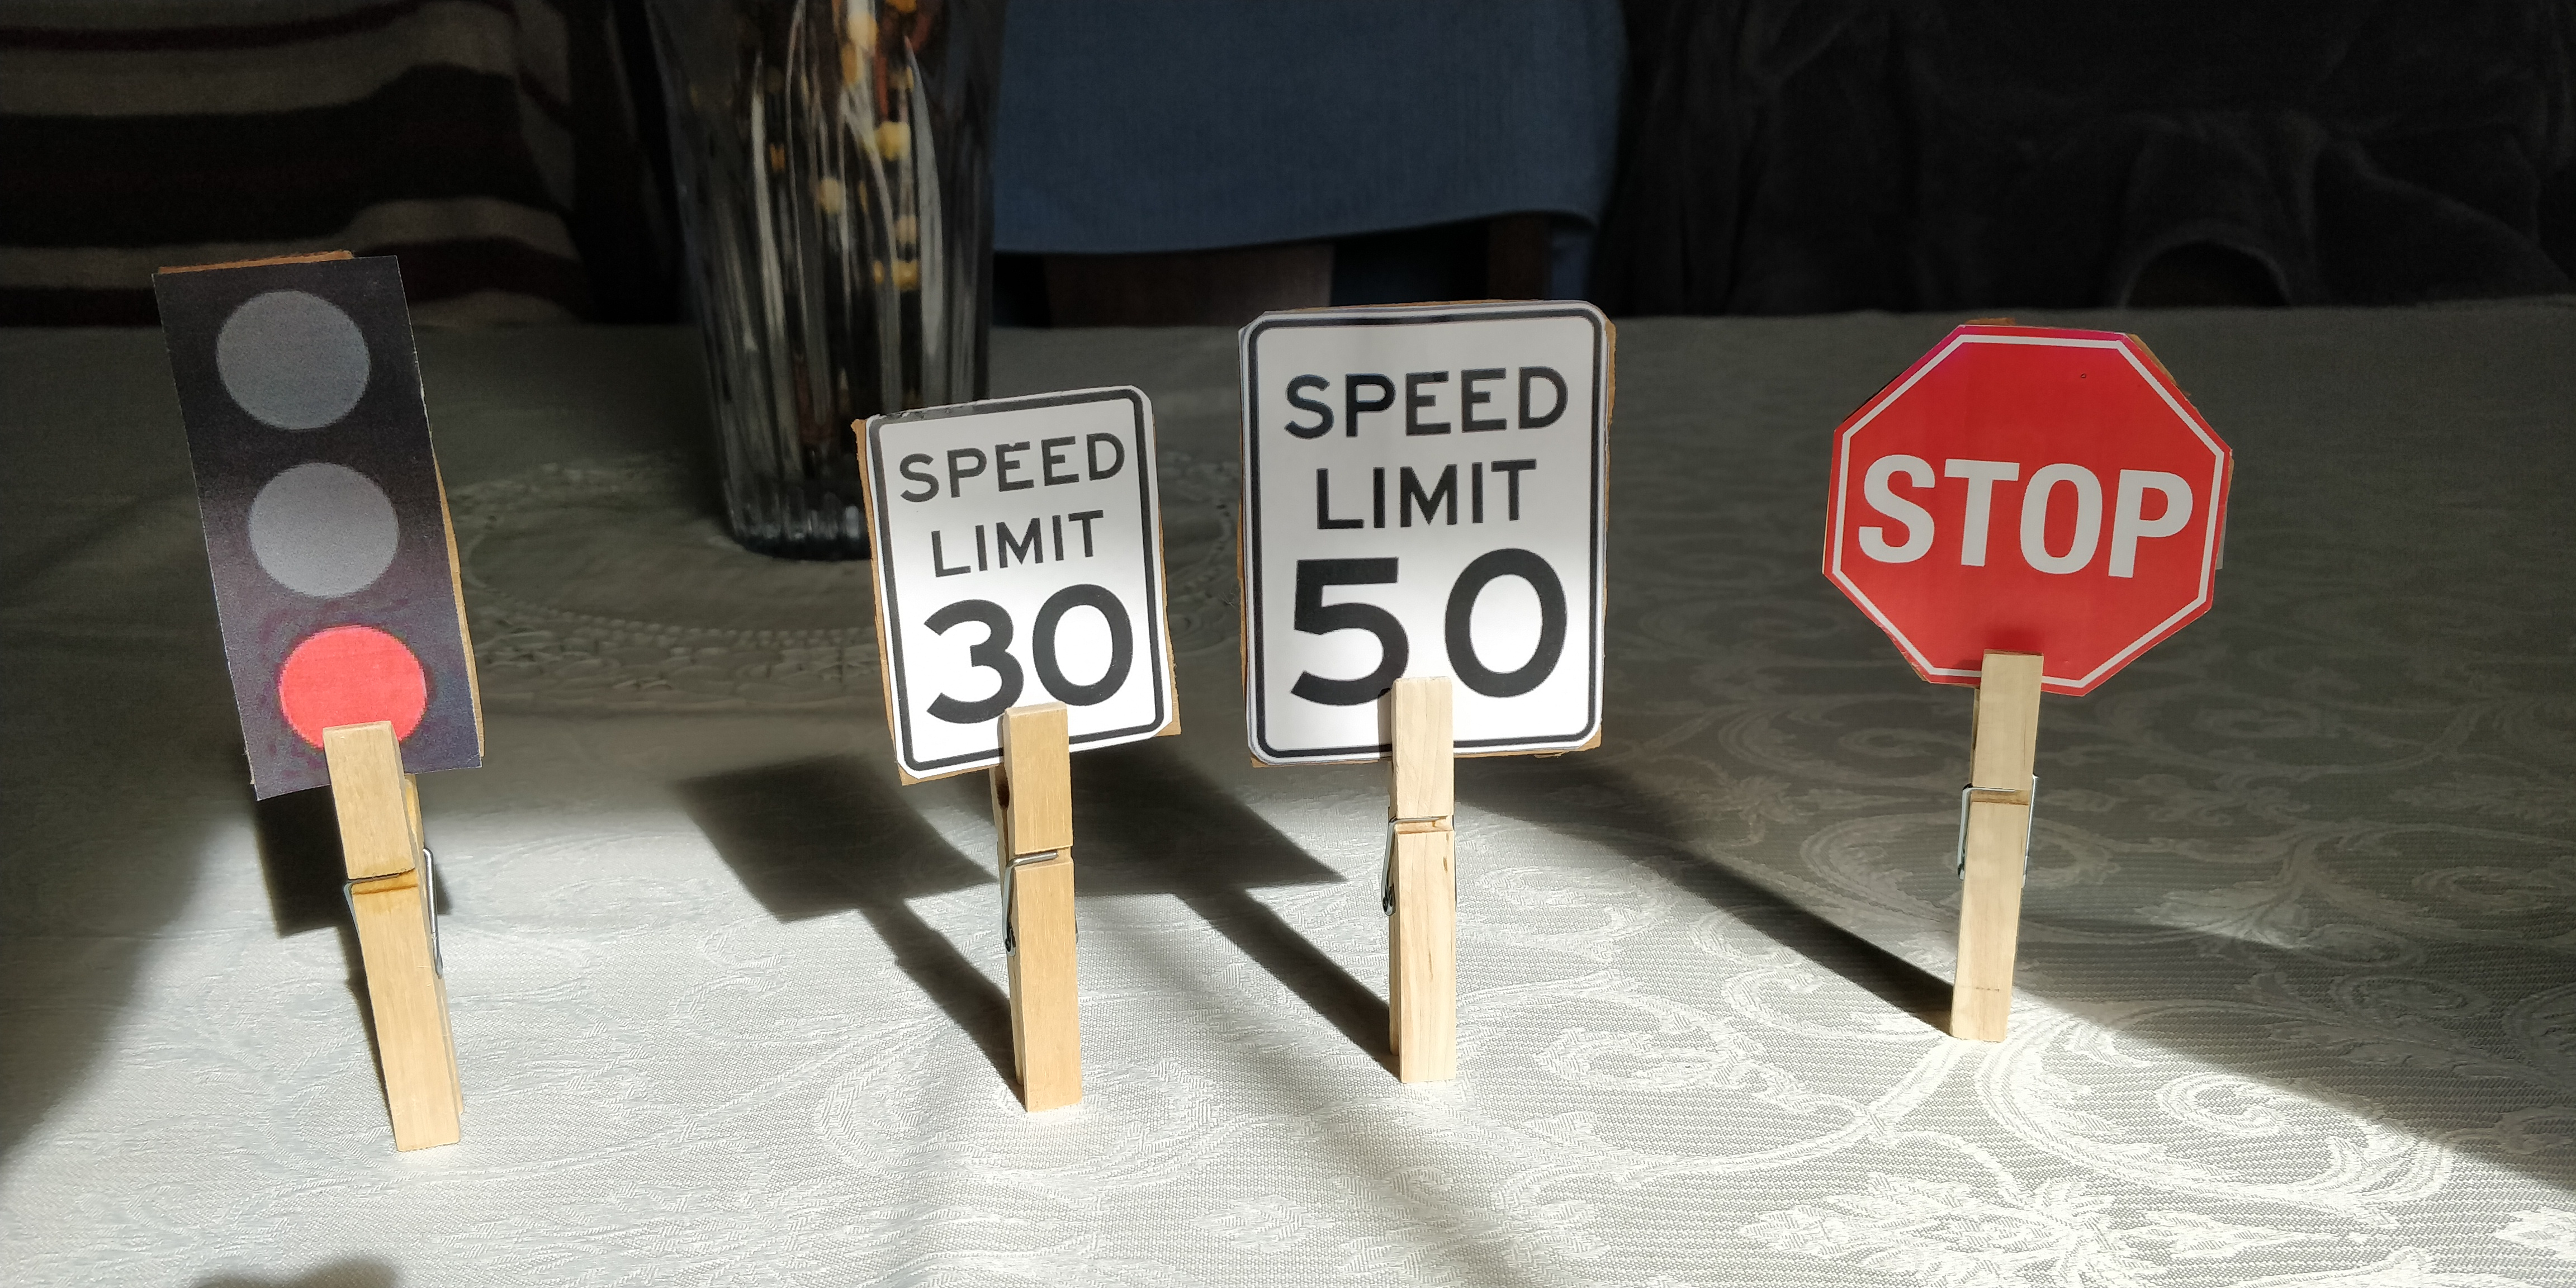Speed Limit 30: (851, 386, 1181, 784)
Speed Limit 50: (1245, 309, 1608, 767)
Stop Sign: (1822, 322, 2236, 695)
red light: (149, 250, 486, 805)
